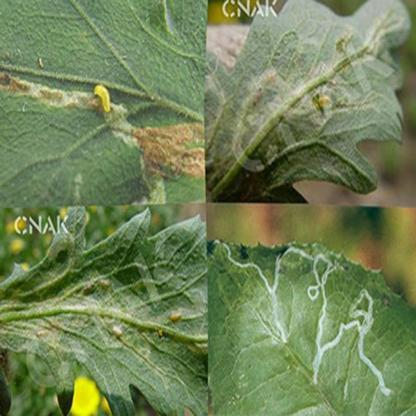whorl-maggot: (92, 80, 120, 118), (164, 308, 186, 327)
